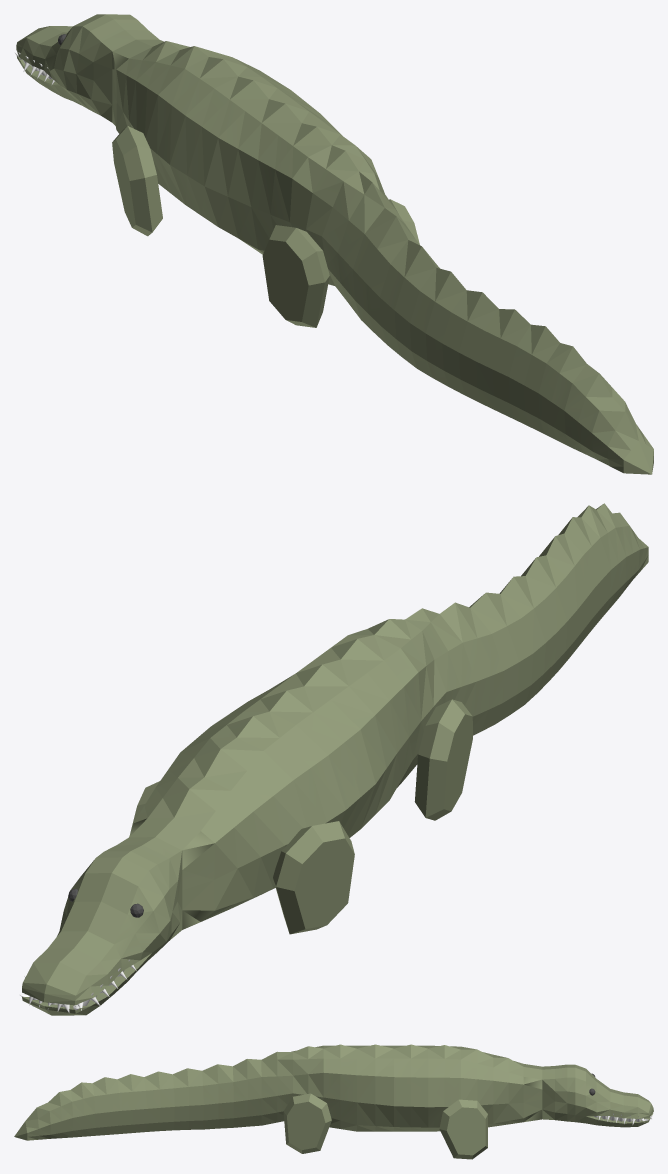
File: Crocodile+.fbx
3 views of the same model, one above another, from view 1: azimuth 30°, elevation 25°; view 2: azimuth 150°, elevation 25°; view 3: azimuth 270°, elevation 25° (orthographic). The views are drawn at different scales.
Visible parts, largest first — view 1: Crocodile, Leg-b1, Leg-f1; view 2: Crocodile, Leg-f1, Leg-b1; view 3: Crocodile, Leg-f2, Leg-b2.
Boxes of the visible parts, box(x1,y1,x2,y2) form: Crocodile: box(14, 14, 653, 474); Leg-b1: box(262, 225, 329, 327); Leg-f1: box(112, 126, 162, 236); Crocodile: box(19, 503, 648, 1015); Leg-f1: box(273, 821, 354, 934); Leg-b1: box(414, 699, 472, 820); Crocodile: box(14, 1044, 653, 1140); Leg-f2: box(439, 1099, 487, 1159); Leg-b2: box(283, 1093, 331, 1153).
Bounding box in the file's own units: 156 × 136 × 835.
